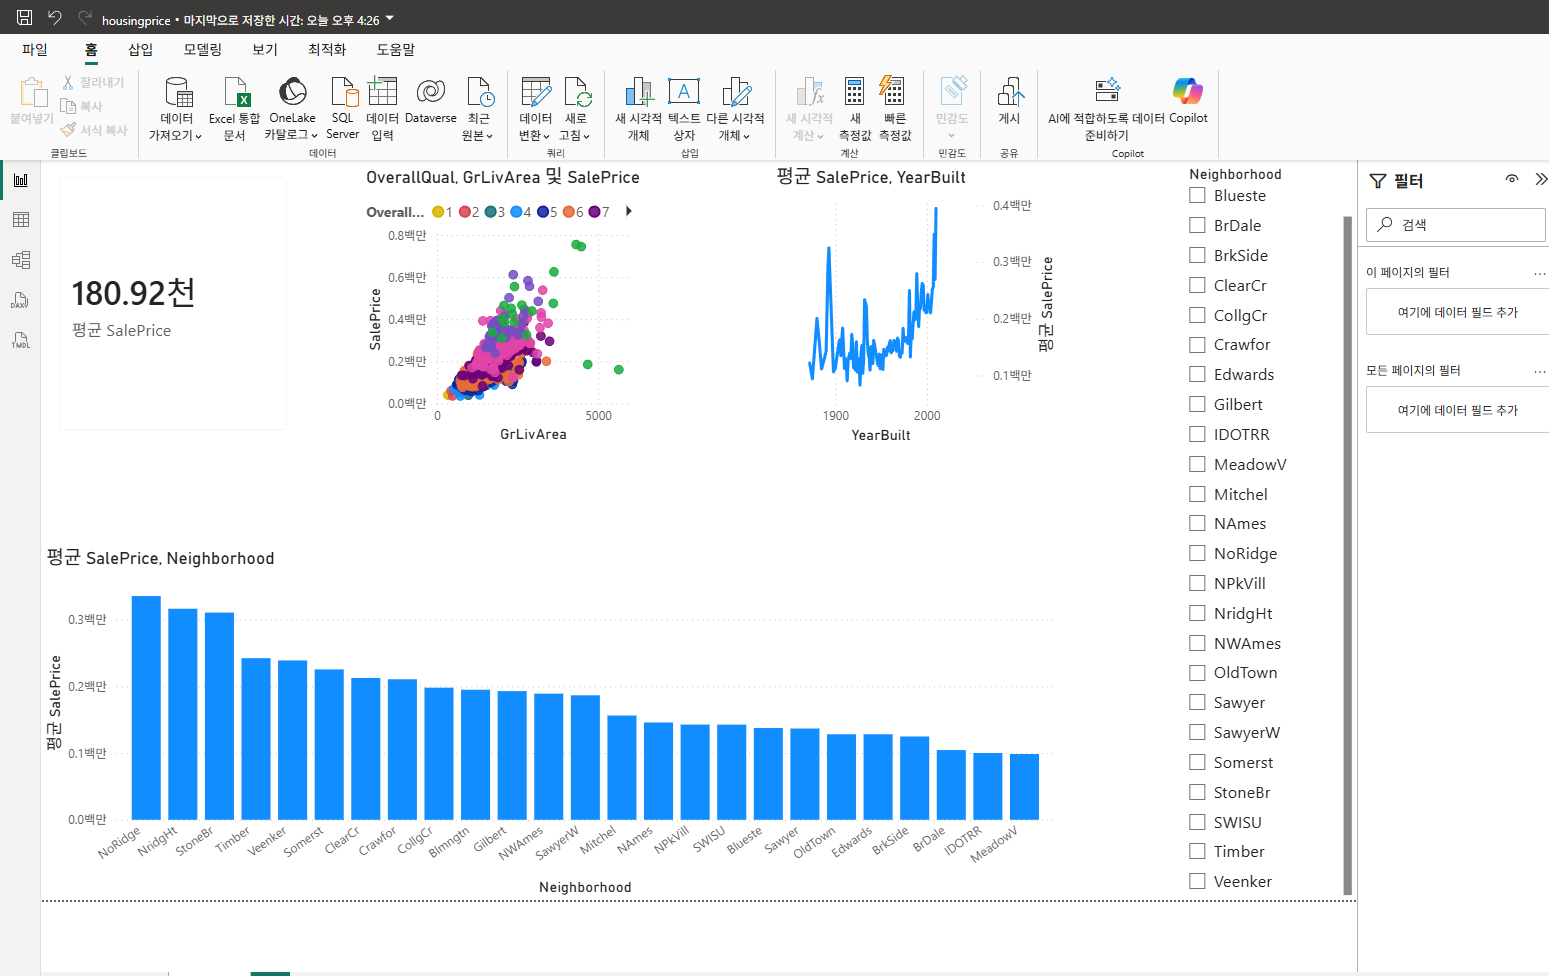

What the dashboard file says about the page in this screenshot:
{"tool":"powerbi","page":{"name":"1 페이지","canvas":[1280,720],"ordinal":0},"visuals":[{"type":"clusteredColumnChart","fields":{"Y":["data.평균 SalePrice"],"Category":["data.Neighborhood"]},"box":[0,370.6,990.2,349.2],"z":0},{"type":"cardVisual","fields":{"Data":["data.평균 SalePrice"]},"box":[0,0,256.8,280.1],"z":1000},{"type":"scatterChart","fields":{"X":["data.GrLivArea"],"Y":["data.SalePrice"],"Series":["data.OverallQual"]},"box":[311.2,0,280,280],"z":2000},{"type":"lineChart","fields":{"Category":["data.YearBuilt"],"Y2":["data.평균 SalePrice"]},"box":[710,0,280.1,280.1],"z":3000},{"type":"slicer","fields":{"Values":["data.Neighborhood"]},"box":[1104,0,176,719.8],"z":4000}]}

Visuals, with their boxes on the page's 1280x720 design canvas (x1, y1, x2, y2). These are canvas units, not pixel positions in the 1549x976 screenshot, which may show the page scaled, cropped or inside an application window:
clusteredColumnChart - data.평균 SalePrice x data.Neighborhood: region(0, 371, 990, 720)
cardVisual - data.평균 SalePrice: region(0, 0, 257, 280)
scatterChart - data.GrLivArea x data.SalePrice: region(311, 0, 591, 280)
lineChart - data.YearBuilt x data.평균 SalePrice: region(710, 0, 990, 280)
slicer - data.Neighborhood: region(1104, 0, 1280, 720)
